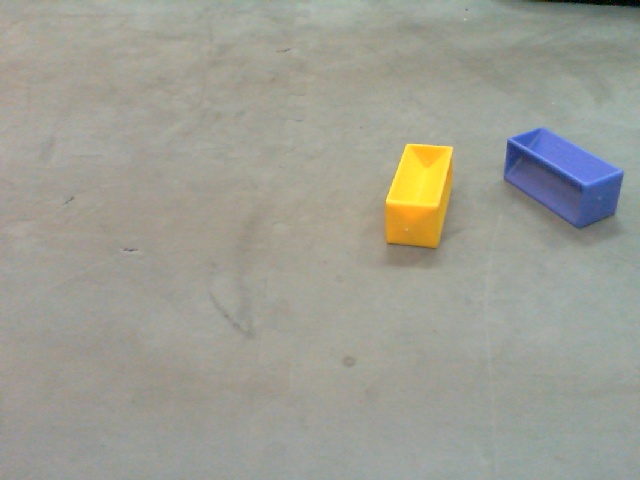BlueSample: (501, 126, 624, 230)
YellowSample: (381, 143, 457, 251)
